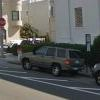Car: (14, 36, 87, 78)
